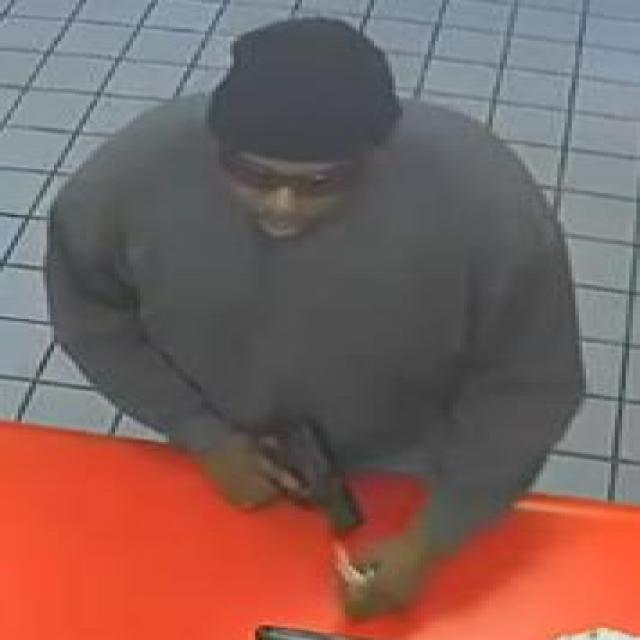Gun: (212, 418, 356, 531)
